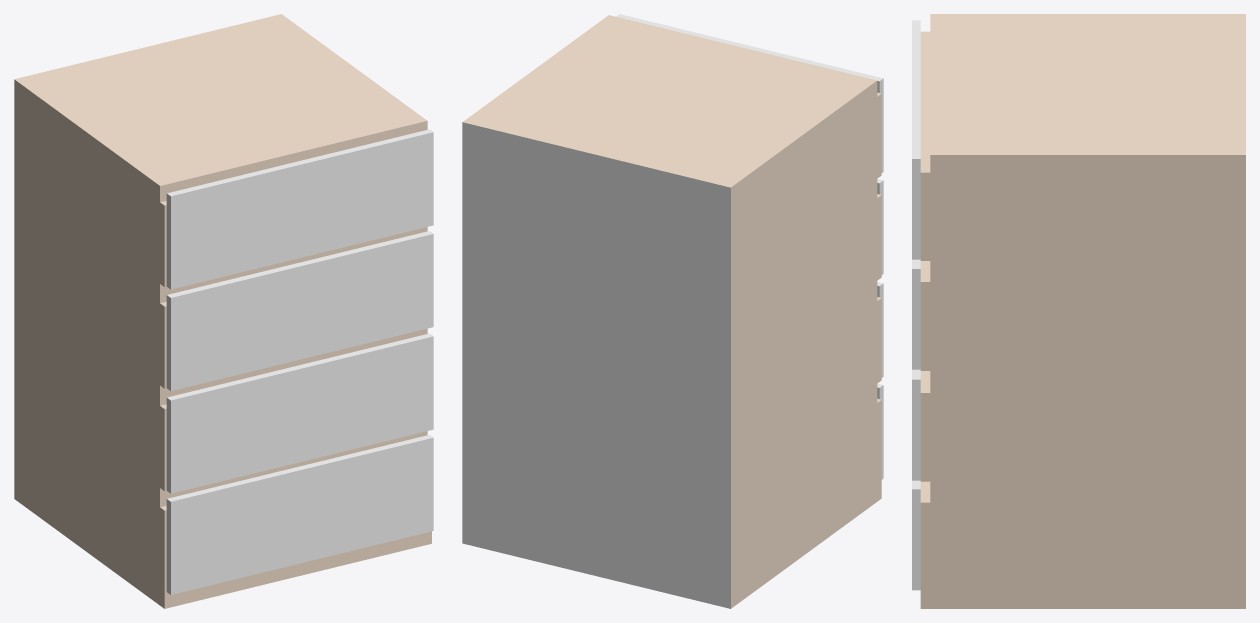
File: KTCH_ELIX_Cabinet_60_60_90_Drawers_4.FBX
3 renders of one model, left to right at view 1: azimuth 30°, elevation 25°; view 2: azimuth 150°, elevation 25°; view 3: azimuth 270°, elevation 25°, orthographic. The views are drawn at different scales.
Parts seen in each view (by area): view 1: KTCH_ELIX_Cabinet_60_60_90_Drawers_4; view 2: KTCH_ELIX_Cabinet_60_60_90_Drawers_4; view 3: KTCH_ELIX_Cabinet_60_60_90_Drawers_4.
Boxes of the visible parts, x1,y1,x2,y2 form: KTCH_ELIX_Cabinet_60_60_90_Drawers_4: (14, 14, 433, 608); KTCH_ELIX_Cabinet_60_60_90_Drawers_4: (462, 14, 883, 608); KTCH_ELIX_Cabinet_60_60_90_Drawers_4: (912, 14, 1245, 608).
Size of the model in its own units: 60 by 60 by 90.
